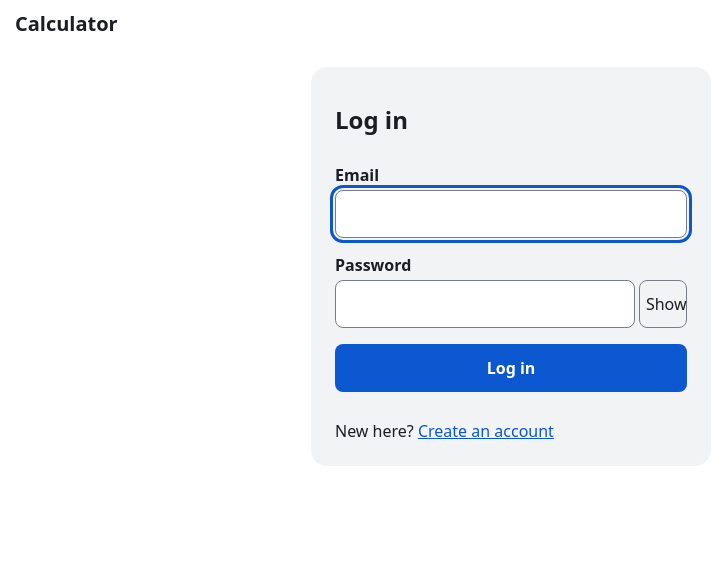
Test: log in (#3) › network error keeps all input including the password
The image size is (728, 581).
Expected: the heading "Log in" is shown, [335,103,408,136]
In the field labelled "Email": {"x": 511, "y": 214} [335,190,687,238], type "ana@example.com"
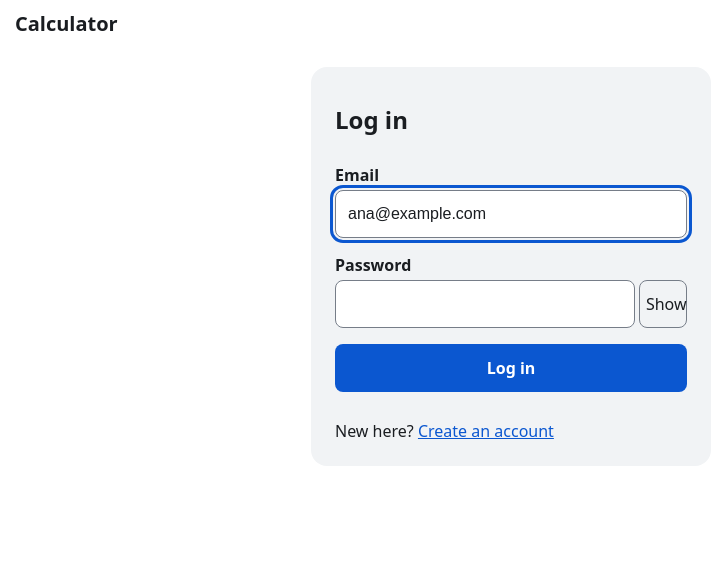
In the password field labelled "Password": {"x": 485, "y": 304} [335,280,635,328], type "correct horse battery"
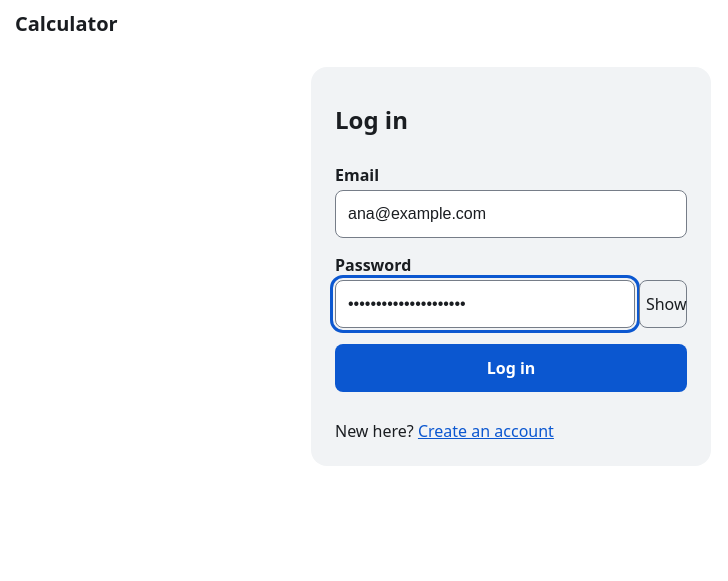
Click the button "Log in": {"x": 511, "y": 368} [335,344,687,392]
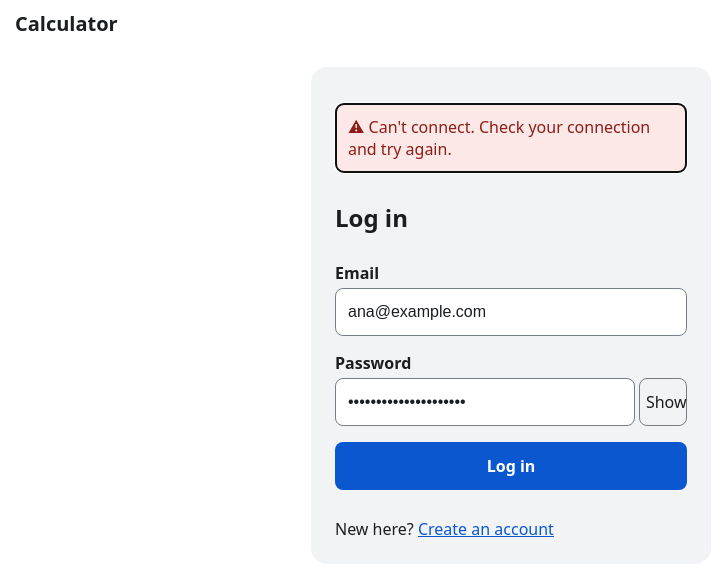
Result: the message shows "Can't connect. Check your connection and try again." at [348,116,650,160]
